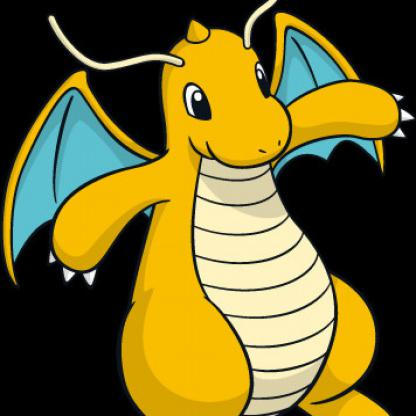Dragonite: (1, 4, 416, 416)
